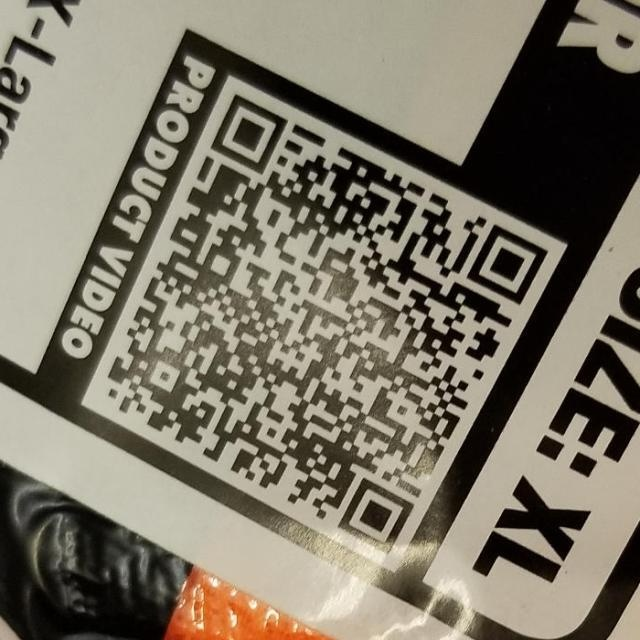qr-code: (92, 85, 560, 570)
